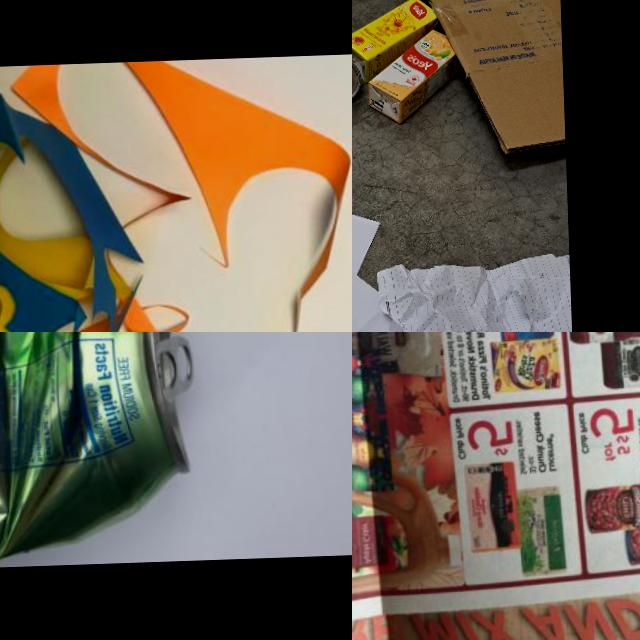aba de lata: (152, 337, 193, 398)
caixinha: (366, 29, 462, 125), (352, 0, 439, 84)
lata: (0, 332, 199, 569)
papel: (0, 53, 352, 332), (352, 332, 640, 640), (373, 253, 576, 332)
papelão: (396, 0, 565, 159)
